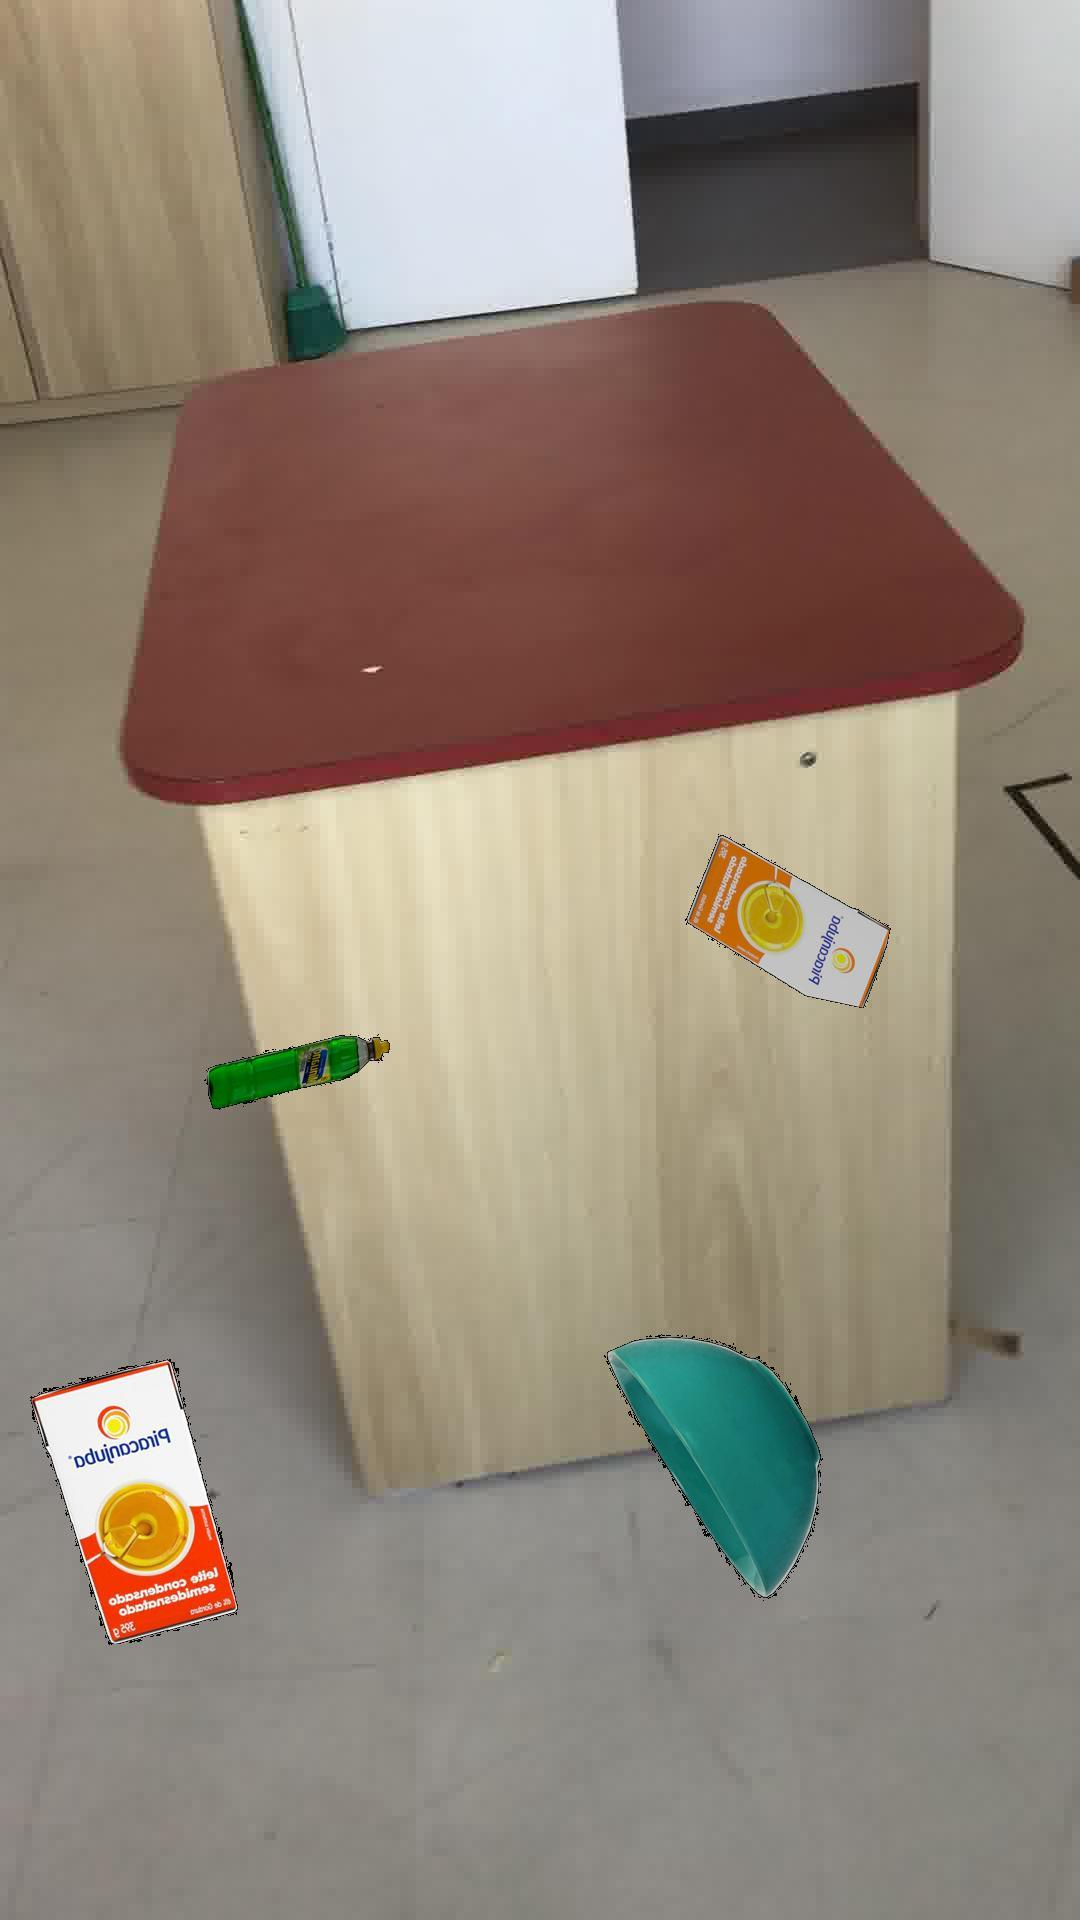bowl: (604, 1333, 822, 1597)
cleaner: (204, 1034, 389, 1109)
